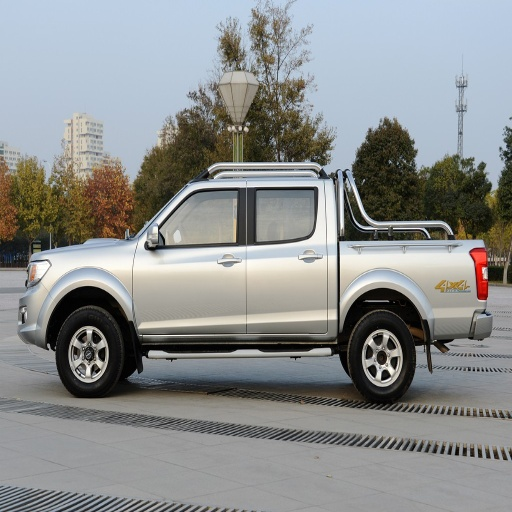back_left_door: (246, 176, 330, 332)
front_left_door: (133, 180, 246, 332)
trunk: (333, 242, 483, 338)
